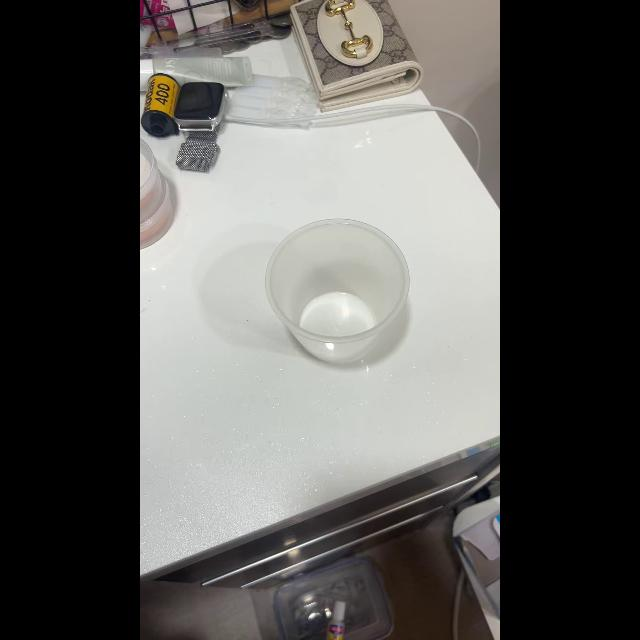clean: (265, 213, 415, 371)
